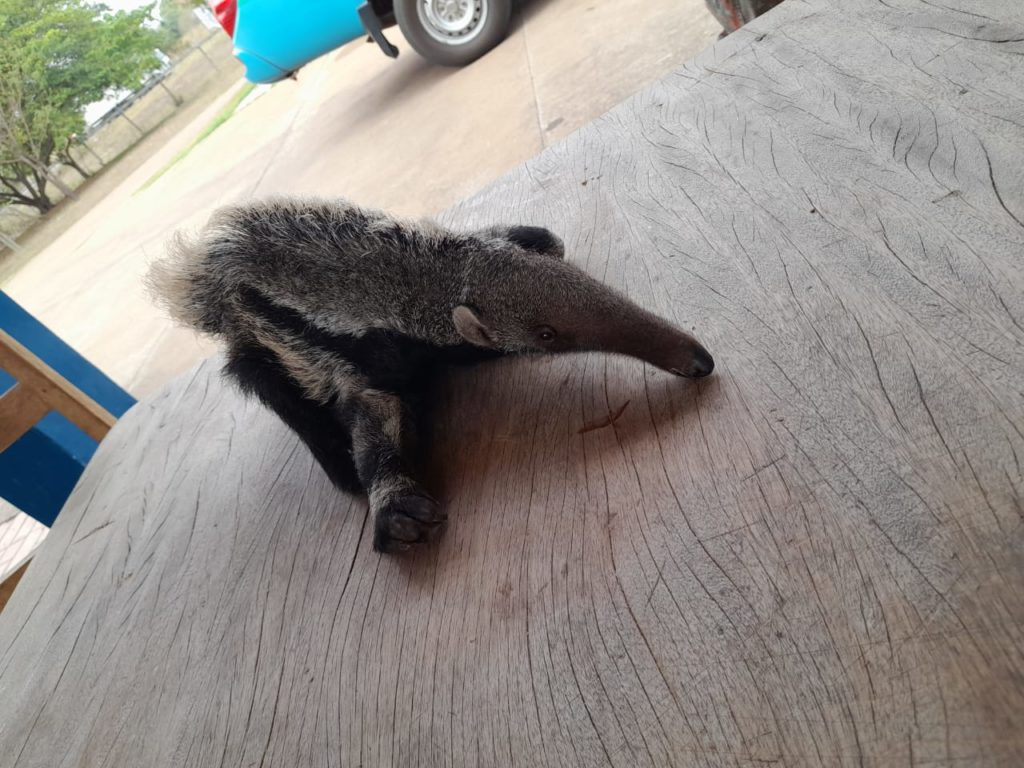TamanduaBandeira: (144, 191, 727, 565)
